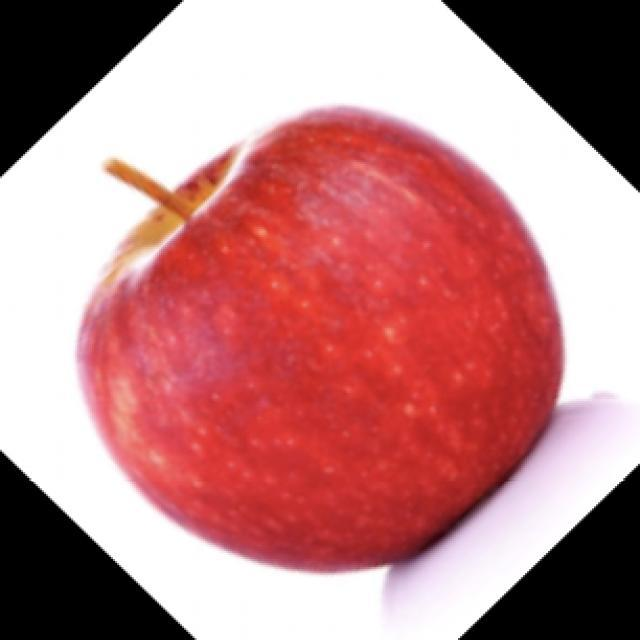Fresh Apple: (70, 122, 568, 558)
